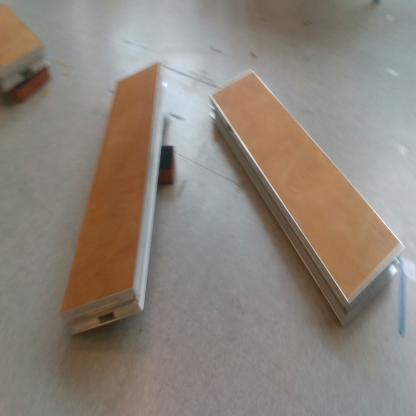Stairs: (210, 68, 406, 333), (62, 63, 169, 337), (1, 4, 50, 95)
